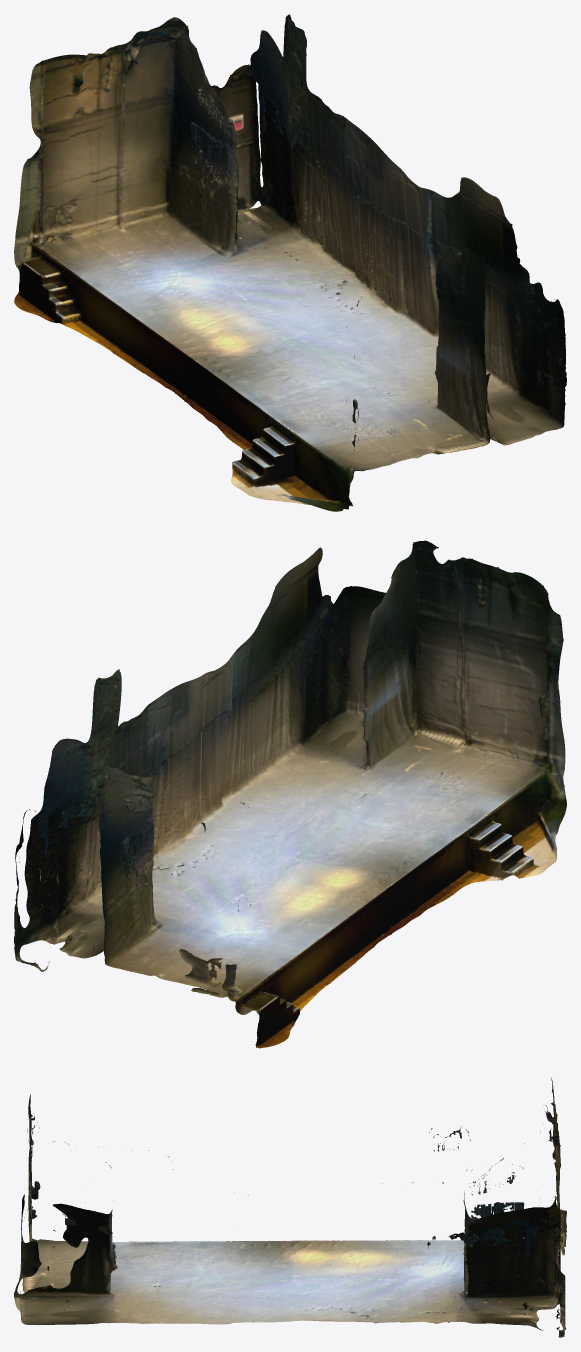
Rendered from factory_high density.glb.
3 renders of one model, top to bottom at view 1: azimuth 30°, elevation 25°; view 2: azimuth 150°, elevation 25°; view 3: azimuth 270°, elevation 25°, orthographic. The views are drawn at different scales.
Size of the model in its own units: 6.73 by 6.42 by 13.97.
Materials: 1 (1 with a texture image).
